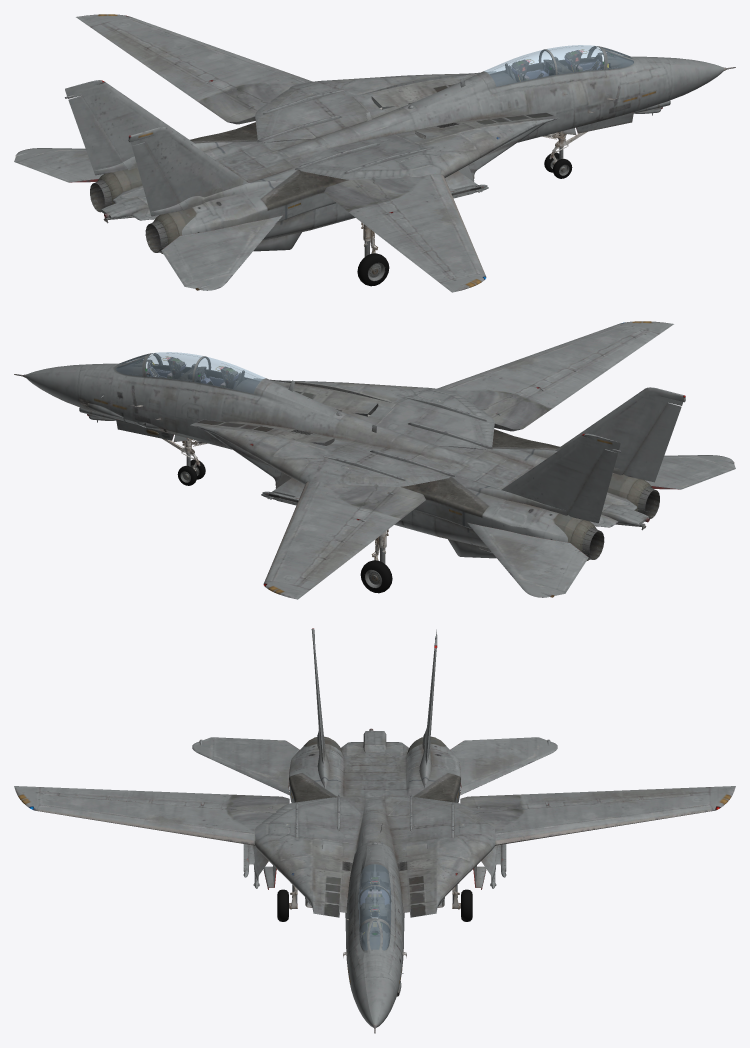
3 views of the same model, one above another, from view 1: azimuth 30°, elevation 25°; view 2: azimuth 150°, elevation 25°; view 3: azimuth 270°, elevation 25° (orthographic). The views are drawn at different scales.
Parts seen in each view (by area): view 1: f14a-airframe_0, f14a-canopyFr_1, f14a-gearOn_4, f14a-cockpit_2; view 2: f14a-airframe_0, f14a-canopyFr_1, f14a-gearOn_4, f14a-cockpit_2; view 3: f14a-airframe_0, f14a-cockpit_2, f14a-canopyFr_1, f14a-gearOn_4.
Part boxes in pixels (box(x1,y1,x2,y2)): f14a-airframe_0: box(14, 14, 735, 292); f14a-canopyFr_1: box(484, 45, 633, 86); f14a-gearOn_4: box(357, 112, 633, 286); f14a-cockpit_2: box(488, 46, 633, 86); f14a-airframe_0: box(14, 321, 735, 599); f14a-canopyFr_1: box(116, 352, 265, 393); f14a-gearOn_4: box(116, 419, 392, 593); f14a-cockpit_2: box(116, 353, 261, 393); f14a-airframe_0: box(14, 628, 735, 1033); f14a-cockpit_2: box(358, 864, 391, 950); f14a-canopyFr_1: box(358, 864, 391, 950); f14a-gearOn_4: box(263, 865, 486, 921).
Bounding box in the file's own units: 192 × 55.65 × 195.
3 materials, 2 textured.
